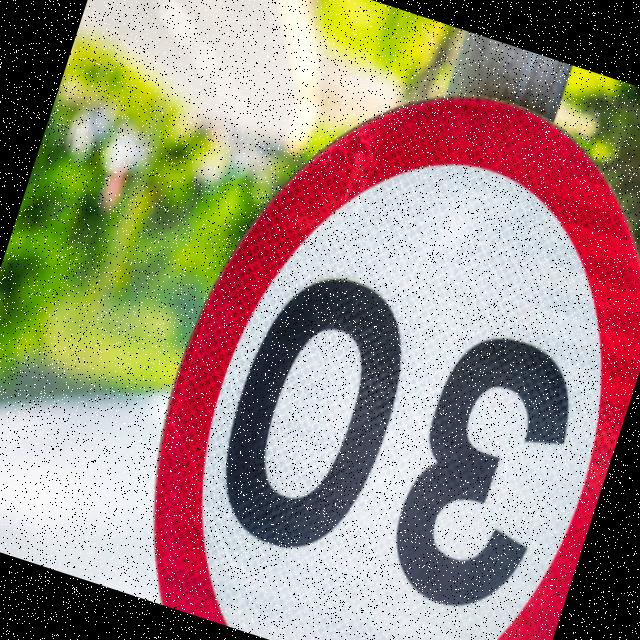speed_limit_30: (102, 20, 640, 640)
